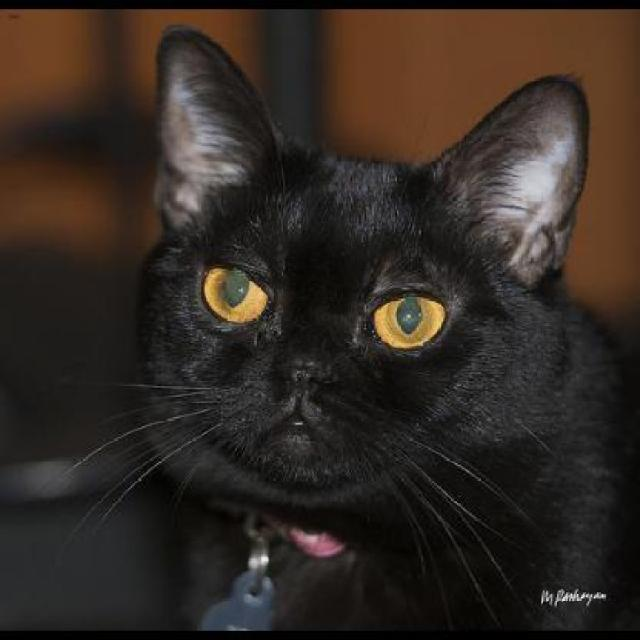unauthorized: (59, 23, 638, 632)
